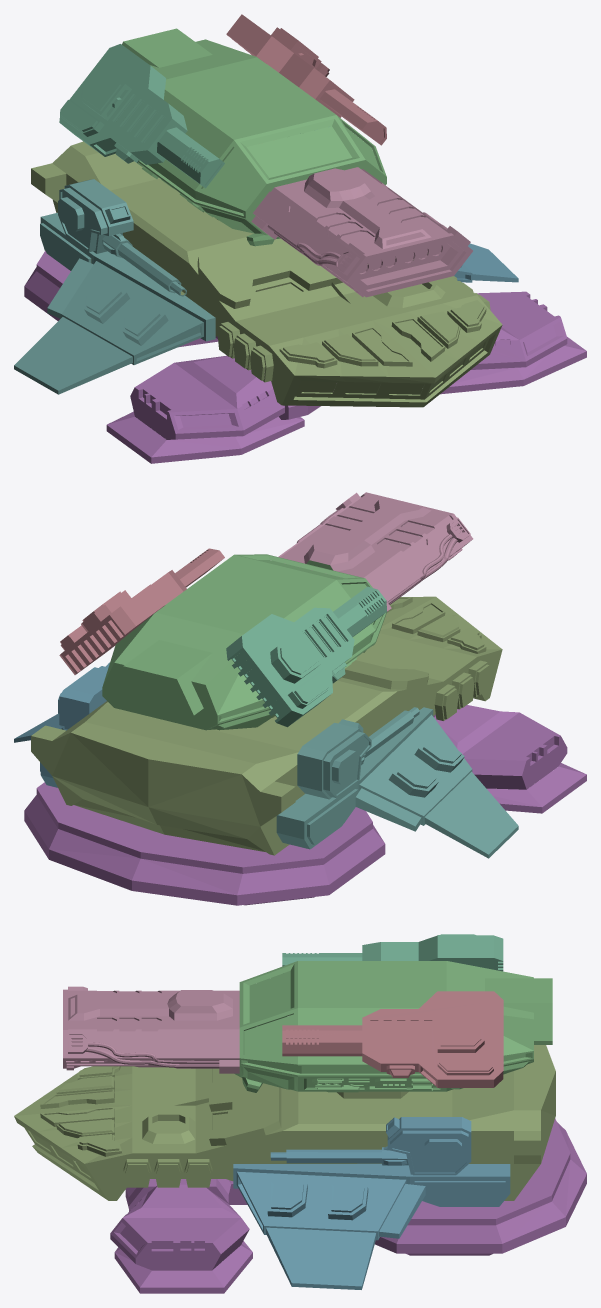
File: 4ca574ac7634_seg.glb
3 renders of one model, top to bottom at view 1: azimuth 30°, elevation 25°; view 2: azimuth 150°, elevation 25°; view 3: azimuth 270°, elevation 25°, orthographic. The views are drawn at different scales.
Visible parts, largest first — view 1: p00, p07, p01, p04, p02, p03, p05, p06; view 2: p00, p01, p07, p04, p02, p03, p05, p06; view 3: p00, p06, p01, p07, p02, p05, p03.
Boxes of the visible parts, <box> form: p00: <box>31,141,502,407</box>; p07: <box>122,28,386,246</box>; p01: <box>24,251,586,463</box>; p04: <box>14,179,215,394</box>; p02: <box>251,167,472,297</box>; p03: <box>59,44,224,188</box>; p05: <box>226,14,386,145</box>; p06: <box>454,243,518,282</box>; p00: <box>31,596,502,855</box>; p01: <box>24,705,586,905</box>; p07: <box>102,554,386,730</box>; p04: <box>276,707,518,858</box>; p02: <box>278,492,473,611</box>; p03: <box>226,586,386,727</box>; p05: <box>59,548,224,674</box>; p06: <box>14,662,109,787</box>; p00: <box>14,1045,555,1200</box>; p06: <box>233,1117,510,1289</box>; p01: <box>110,1118,586,1293</box>; p07: <box>234,961,552,1092</box>; p02: <box>63,986,239,1073</box>; p05: <box>282,991,503,1087</box>; p03: <box>282,934,503,971</box>.
Bounding box in the file's own units: 0.9013 × 0.449 × 1.
